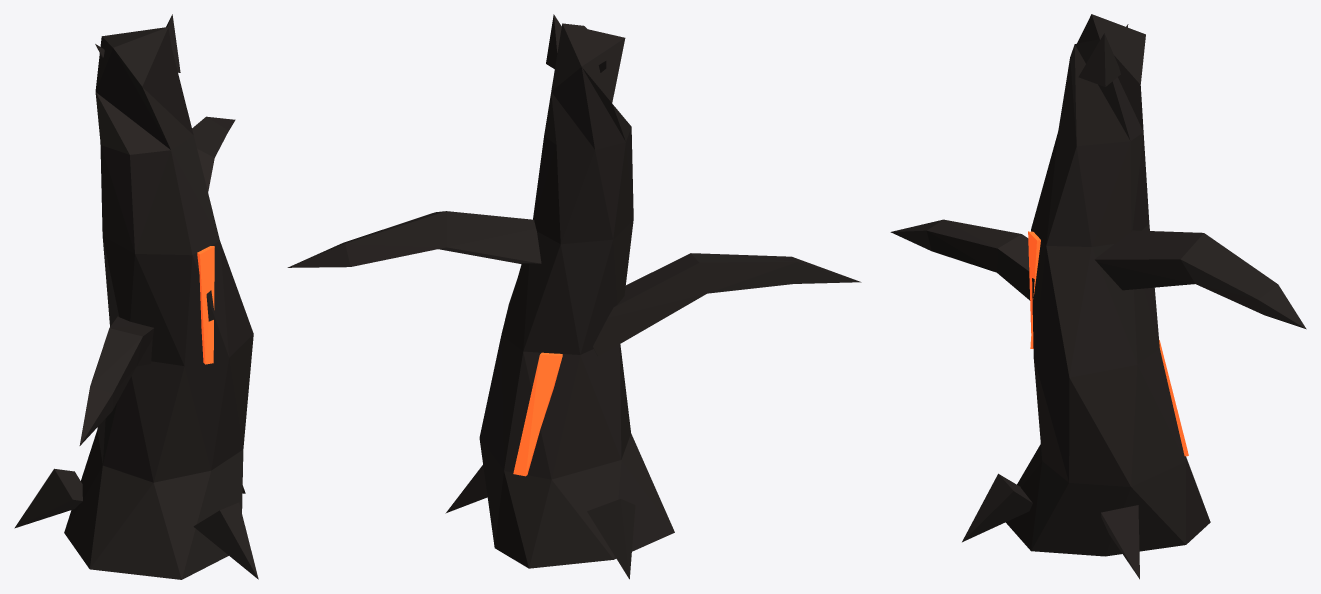
The model's file is VL_CharredTree.fbx.
3 views of the same model, side by side, from view 1: azimuth 30°, elevation 25°; view 2: azimuth 150°, elevation 25°; view 3: azimuth 270°, elevation 25° (orthographic). The views are drawn at different scales.
Parts seen in each view (by area): view 1: VL_CharredTree_Wood, VL_CharredTree_Neon_Magma; view 2: VL_CharredTree_Wood, VL_CharredTree_Neon_Magma; view 3: VL_CharredTree_Wood, VL_CharredTree_Neon_Magma.
Part boxes in pixels (box(x1,y1,x2,y2)): VL_CharredTree_Wood: box(14, 14, 258, 579); VL_CharredTree_Neon_Magma: box(197, 246, 214, 364); VL_CharredTree_Wood: box(287, 14, 861, 579); VL_CharredTree_Neon_Magma: box(513, 352, 562, 476); VL_CharredTree_Wood: box(890, 14, 1306, 579); VL_CharredTree_Neon_Magma: box(1028, 231, 1188, 456).
Size of the model in its own units: 12 by 16 by 12.
